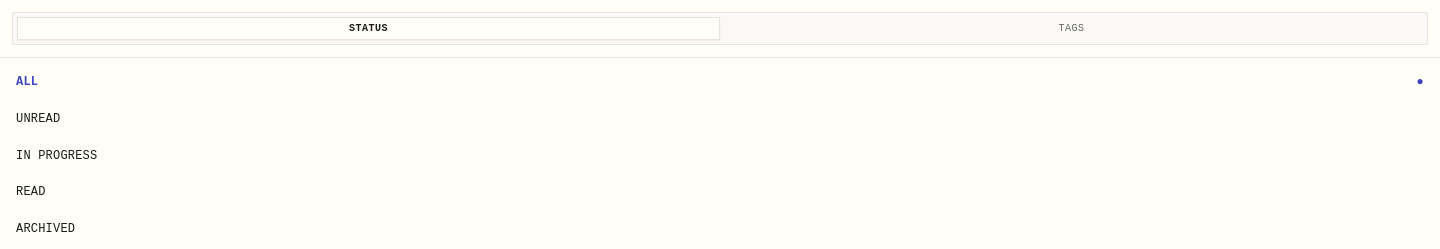
Scenario: FilterDropdownContent › switches tabs between Status and Tags
// Switch to Tags
Click the button "Tags". click: coordinates (1072, 28)
box: [720,17,1423,40]
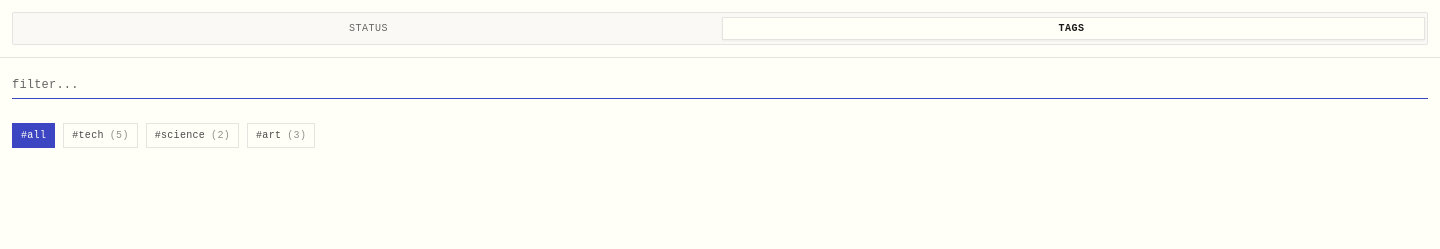
Expected: the field with placeholder "FILTER..." is shown, [12,73,1428,99]
Expected: the text "#tech" is shown, [72,128,104,143]
